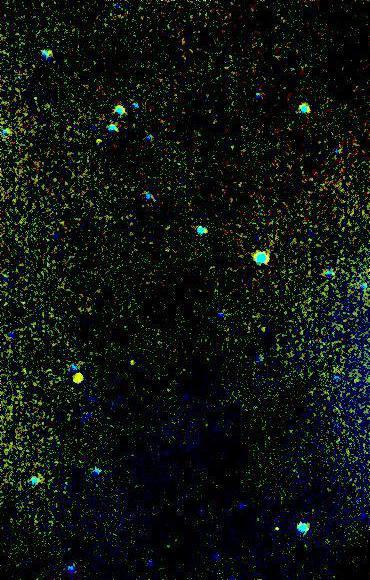star: (62, 363, 92, 393)
